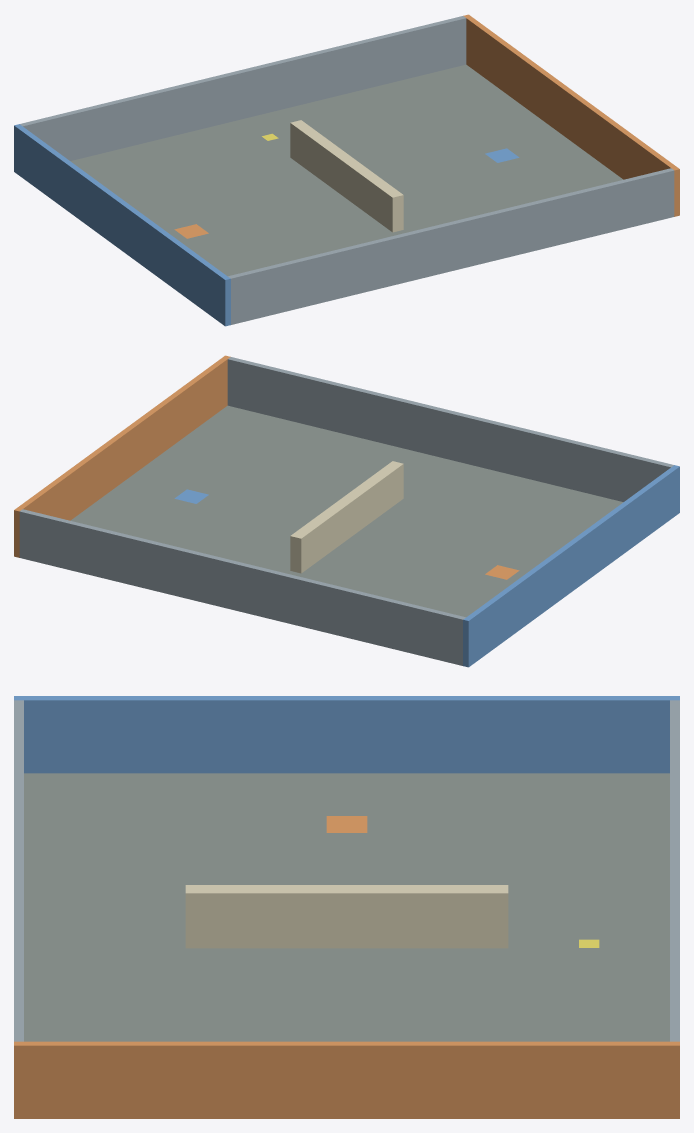
The model's file is courtyard.glb.
The picture shows the model from 3 angles, top to bottom: view 1: azimuth 30°, elevation 25°; view 2: azimuth 150°, elevation 25°; view 3: azimuth 270°, elevation 25°; orthographic projection. The views are drawn at different scales.
Parts seen in each view (by area): view 1: courtyard-floor, wall-south, wall-north, wall-west, wall-east, divider; view 2: courtyard-floor, wall-north, wall-south, wall-west, wall-east, divider; view 3: courtyard-floor, wall-east, wall-west, divider, wall-north, wall-south, site-b-marker.
Part boxes in pixels (x1,y1,x2,y2): courtyard-floor: [70, 64, 623, 276]; wall-south: [228, 168, 674, 324]; wall-north: [20, 16, 466, 160]; wall-west: [14, 124, 230, 326]; wall-east: [463, 14, 679, 216]; divider: [290, 120, 403, 232]; courtyard-floor: [70, 405, 623, 617]; wall-north: [19, 509, 465, 665]; wall-south: [227, 357, 673, 501]; wall-west: [463, 465, 679, 667]; wall-east: [14, 355, 230, 557]; divider: [290, 461, 403, 573]; courtyard-floor: [24, 773, 669, 1041]; wall-east: [14, 1041, 679, 1118]; wall-west: [14, 696, 679, 773]; divider: [185, 885, 508, 948]; wall-north: [670, 700, 679, 1041]; wall-south: [14, 700, 23, 1041]; site-b-marker: [326, 816, 367, 832].
Bounding box in the file's own units: 41 × 4 × 33.
